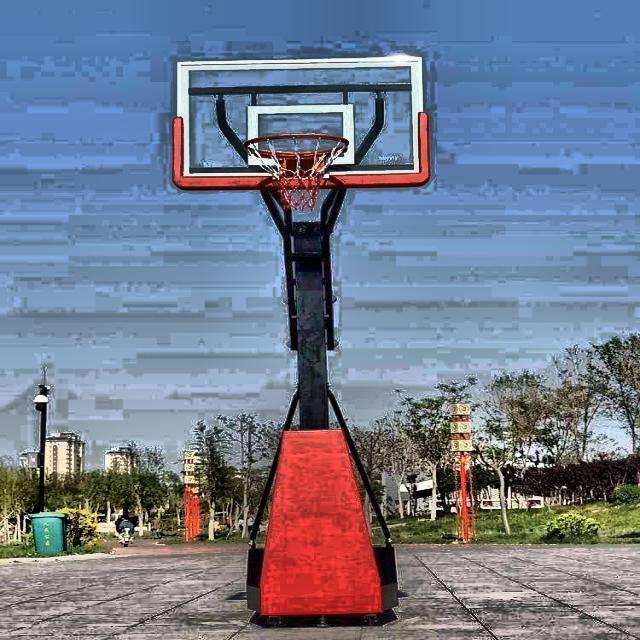rim: (246, 133, 350, 212)
